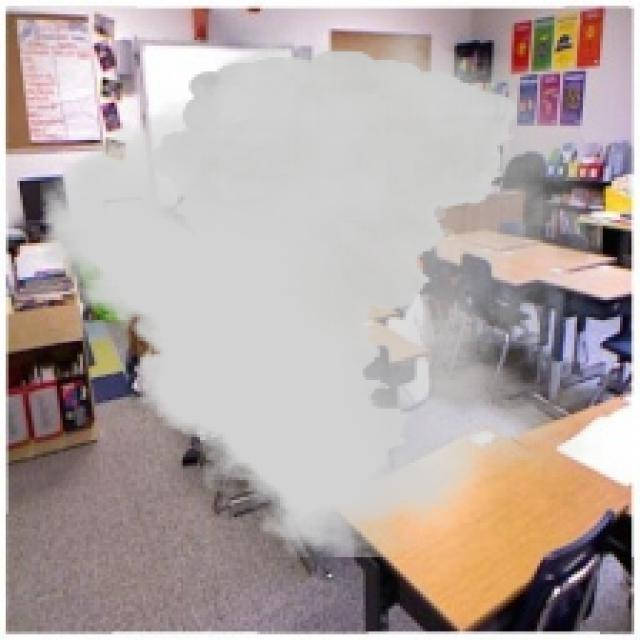smoke: (40, 26, 603, 557)
